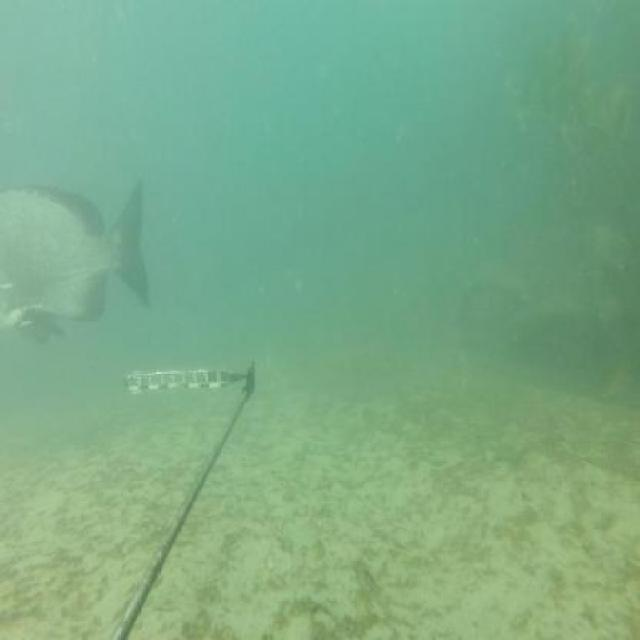acanthopagrus_palmaris: (0, 172, 154, 348)
